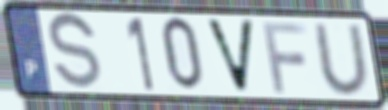0: (158, 13, 207, 97)
1: (125, 15, 156, 93)
F: (259, 19, 310, 96)
S: (47, 10, 104, 94)
U: (310, 22, 374, 98)
V: (202, 16, 257, 97)
